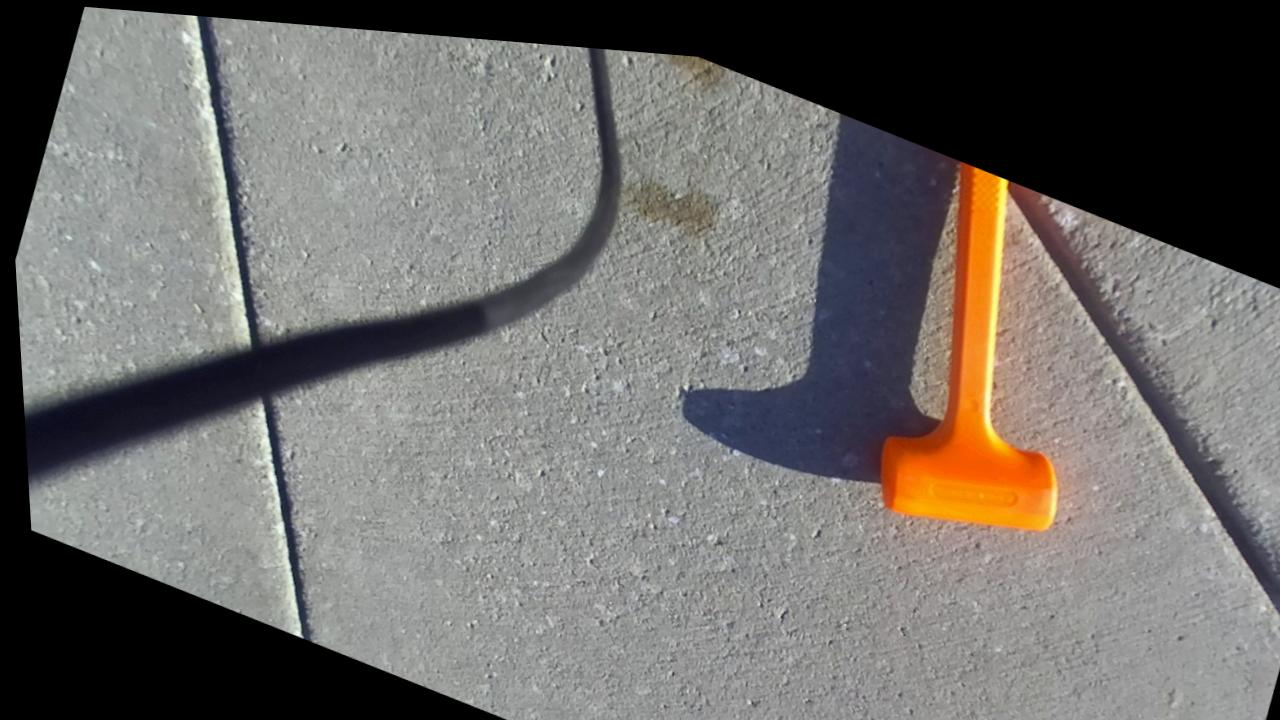mallet: (879, 161, 1057, 530)
